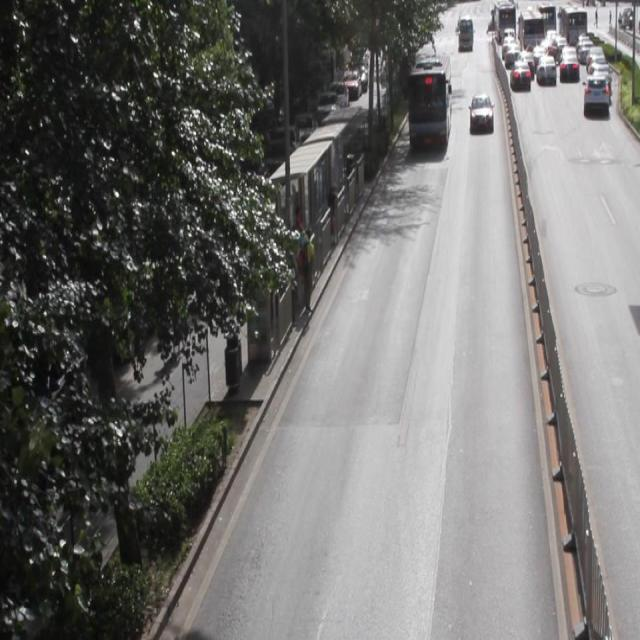BigCar: (402, 46, 454, 166), (455, 11, 479, 52), (494, 0, 515, 39)
car: (556, 0, 593, 50), (582, 65, 610, 127), (468, 87, 499, 142), (518, 6, 546, 56), (509, 57, 535, 96), (582, 42, 607, 74), (560, 45, 580, 83), (535, 52, 554, 88), (502, 34, 520, 63)
